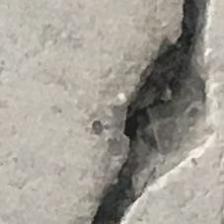Crack: (79, 0, 224, 224)
